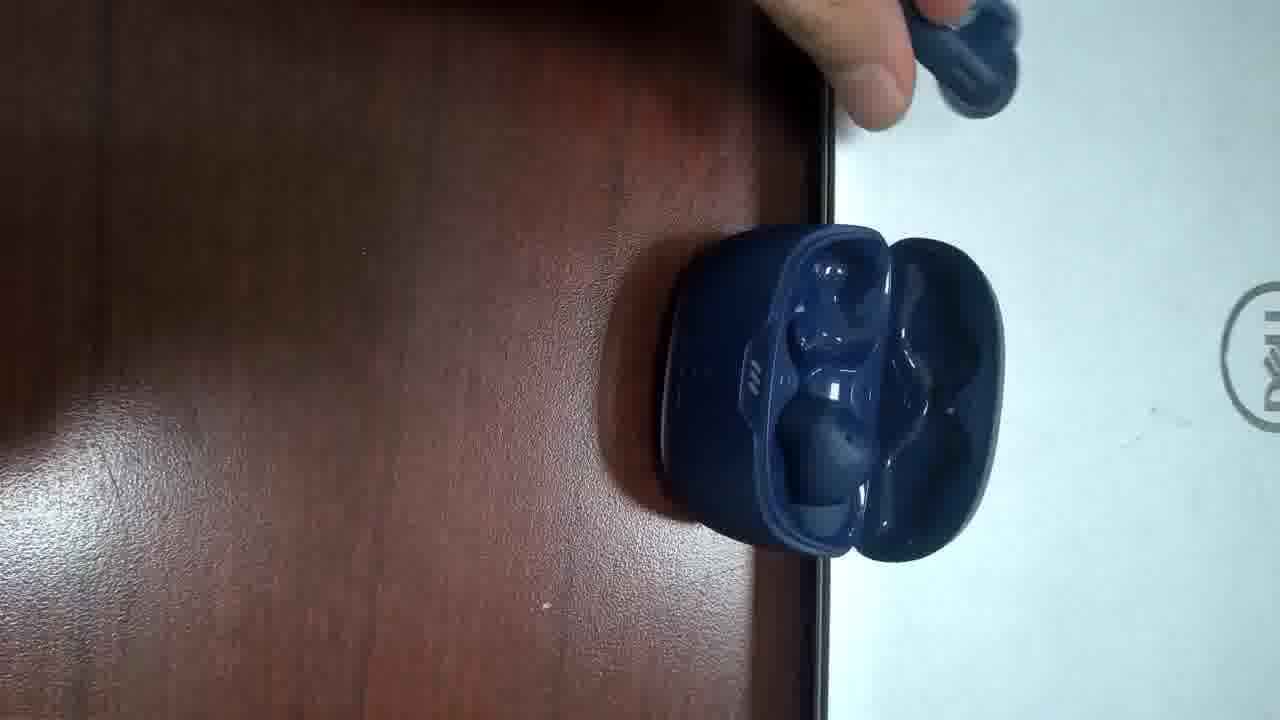Case: (651, 223, 1006, 573)
Earbud: (903, 0, 1018, 116), (779, 390, 869, 501)
Empty_Slot: (784, 237, 892, 368)
